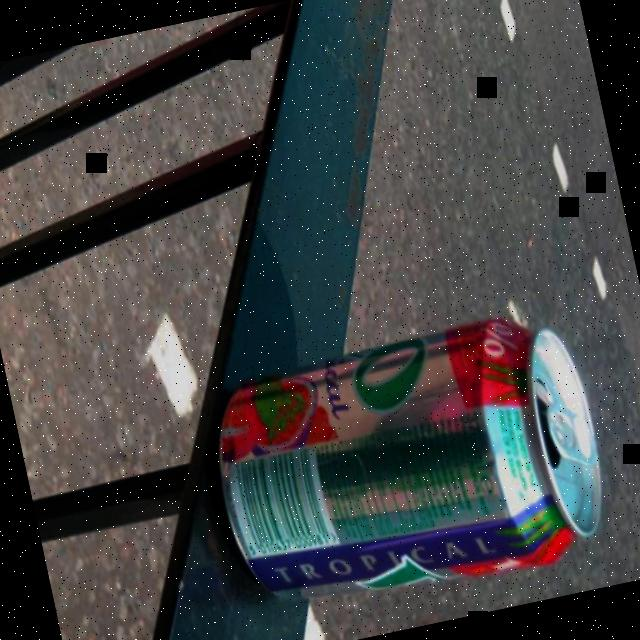can: (185, 297, 628, 638)
